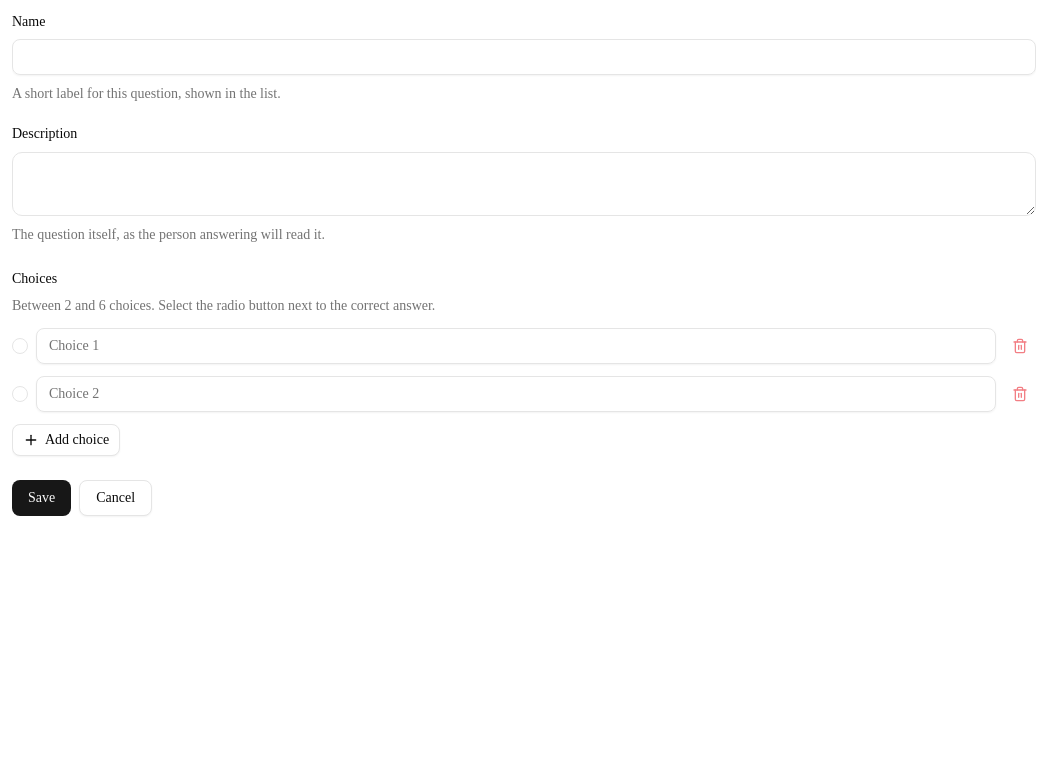
Scenario: McqForm choice editor › adds a row on Add choice
The width and height of the screenshot is (1048, 780).
Click the button "Add choice" at (66, 440), box 12,424 -> 120,456
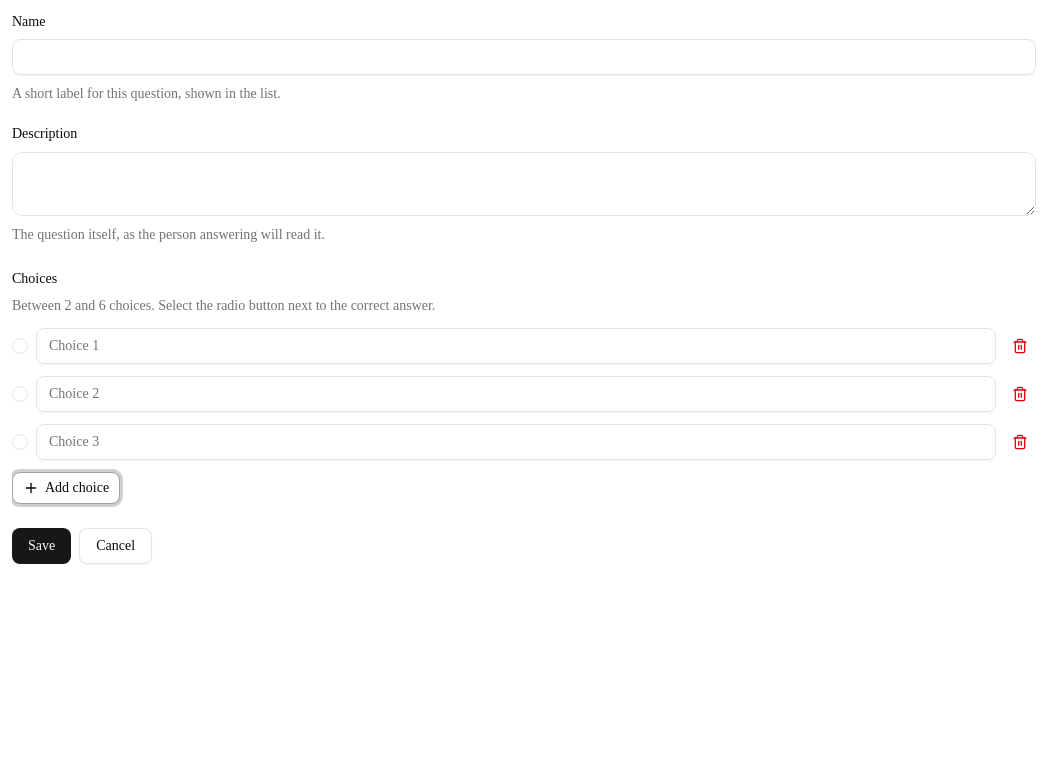
Expected: the number of fields labelled "Choice 1" is 3, 36,328 -> 996,364; 36,376 -> 996,412; 36,424 -> 996,460
